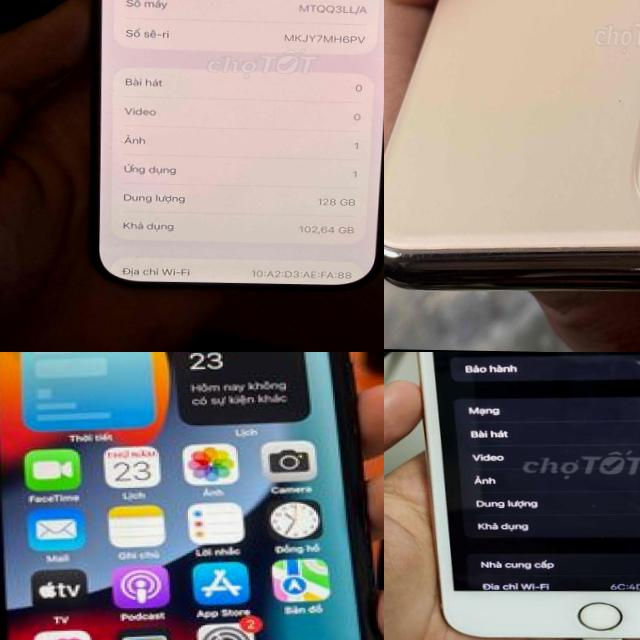gen_11: (384, 0, 640, 298)
gen_15: (77, 0, 384, 311)
gen_7_8: (0, 352, 384, 640), (387, 352, 640, 640)
